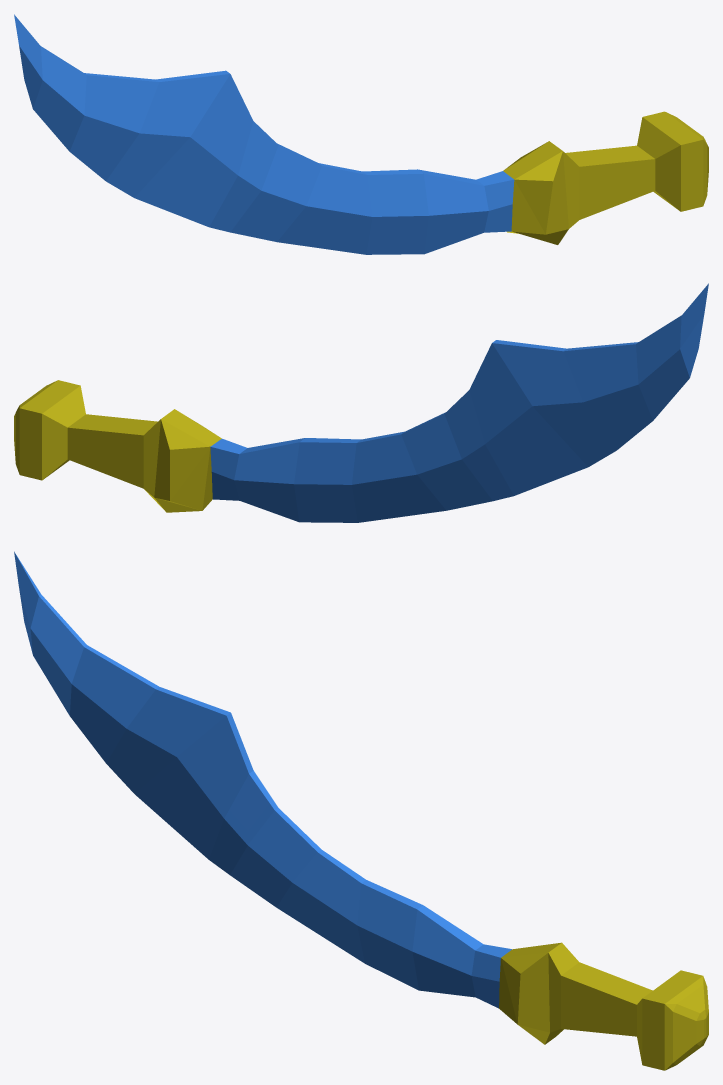
Rendered from MithrilScimitar.glb.
3 renders of one model, top to bottom at view 1: azimuth 30°, elevation 25°; view 2: azimuth 150°, elevation 25°; view 3: azimuth 330°, elevation 25°, orthographic.
Parts seen in each view (by area): view 1: Cube; view 2: Cube; view 3: Cube.
Boxes of the visible parts, x1,y1,x2,y2 form: Cube: [14, 14, 708, 254]; Cube: [14, 283, 708, 522]; Cube: [14, 551, 708, 1070].
Size of the model in its own units: 0.715 by 0.3534 by 0.0691.
